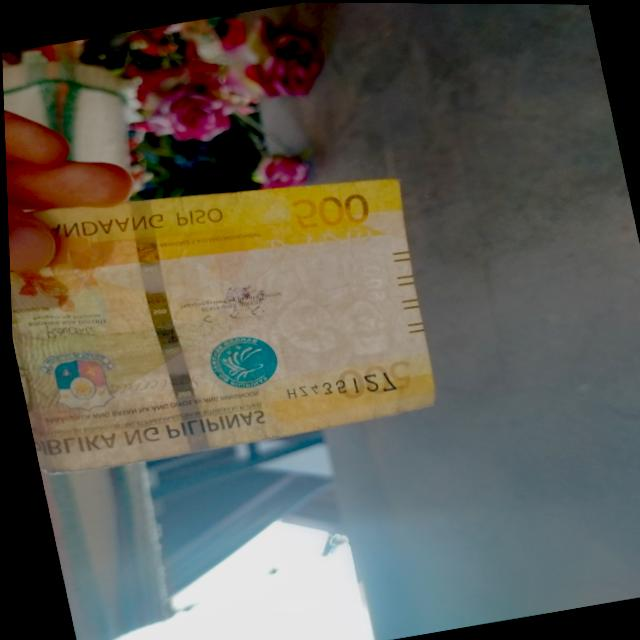security_thread: (116, 197, 215, 454)
see_through_mark: (253, 217, 372, 260)
serial_number: (266, 359, 396, 415)
value_watermark: (348, 256, 386, 312)
watermark: (242, 235, 401, 390)
